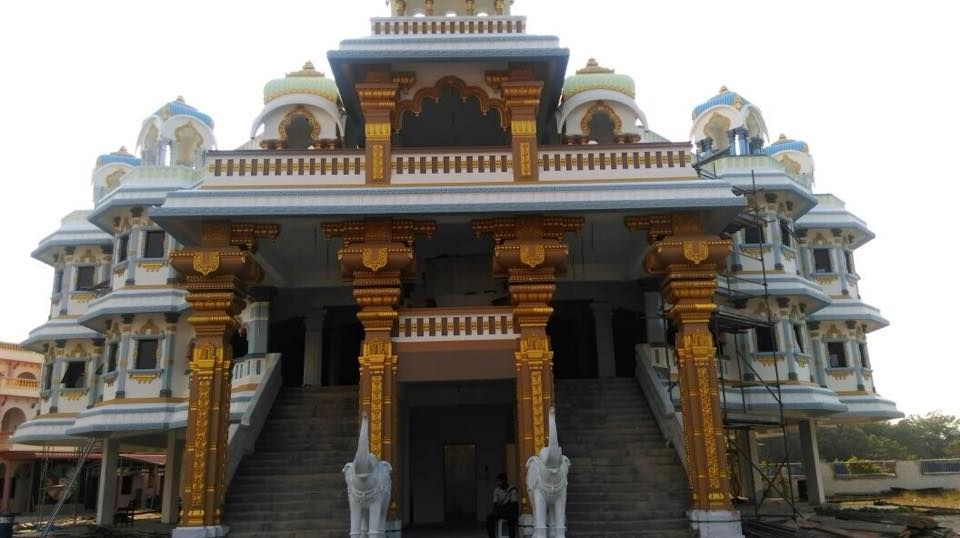Hindu Temple: (80, 5, 883, 494)
